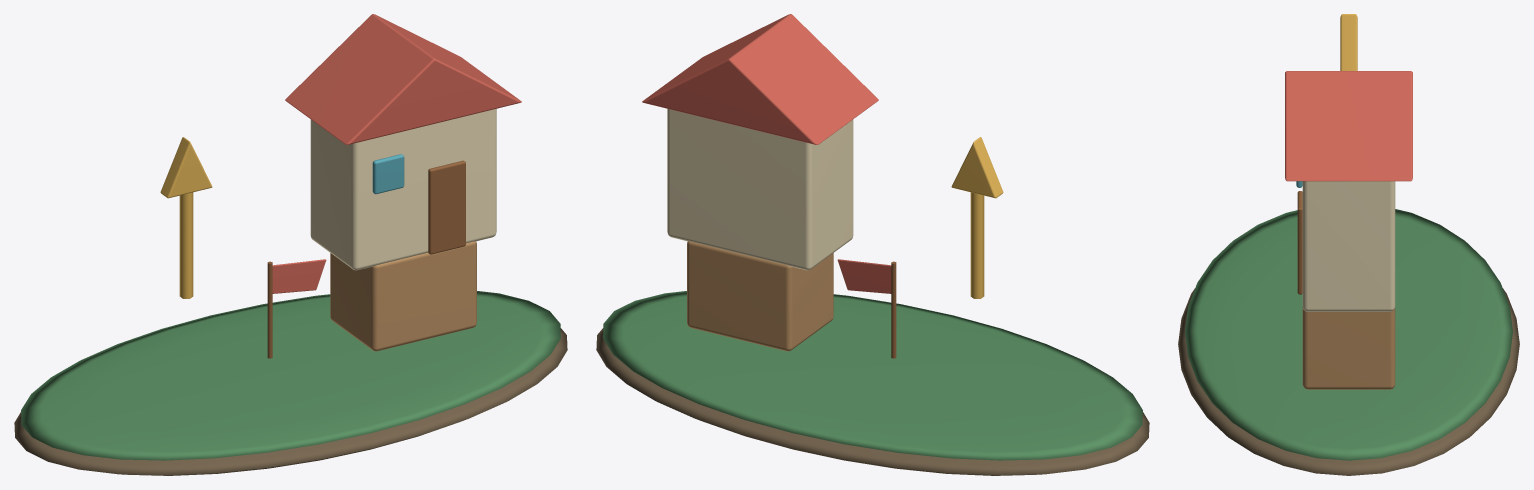
The model's file is complete-first-north-capital.glb.
3 views of the same model, side by side, from view 1: azimuth 30°, elevation 25°; view 2: azimuth 150°, elevation 25°; view 3: azimuth 270°, elevation 25° (orthographic).
Parts seen in each view (by area): view 1: complete-first-north-capital_surface_01, complete-first-north-capital_surface_03, complete-first-north-capital_surface_04, complete-first-north-capital_surface_07, complete-first-north-capital_surface_00, complete-first-north-capital_surface_05, complete-first-north-capital_surface_02, complete-first-north-capital_surface_06; view 2: complete-first-north-capital_surface_01, complete-first-north-capital_surface_03, complete-first-north-capital_surface_04, complete-first-north-capital_surface_07, complete-first-north-capital_surface_00, complete-first-north-capital_surface_02, complete-first-north-capital_surface_05; view 3: complete-first-north-capital_surface_01, complete-first-north-capital_surface_04, complete-first-north-capital_surface_03, complete-first-north-capital_surface_07, complete-first-north-capital_surface_00, complete-first-north-capital_surface_02, complete-first-north-capital_surface_05.
Boxes of the visible parts, x1,y1,x2,y2 form: complete-first-north-capital_surface_01: [21, 291, 560, 460]; complete-first-north-capital_surface_03: [310, 109, 496, 270]; complete-first-north-capital_surface_04: [272, 14, 521, 293]; complete-first-north-capital_surface_07: [330, 241, 476, 351]; complete-first-north-capital_surface_00: [14, 328, 567, 475]; complete-first-north-capital_surface_05: [267, 160, 465, 358]; complete-first-north-capital_surface_02: [160, 137, 212, 298]; complete-first-north-capital_surface_06: [372, 154, 404, 194]; complete-first-north-capital_surface_01: [603, 291, 1142, 460]; complete-first-north-capital_surface_03: [667, 109, 853, 270]; complete-first-north-capital_surface_04: [642, 14, 891, 293]; complete-first-north-capital_surface_07: [687, 241, 833, 351]; complete-first-north-capital_surface_00: [596, 328, 1149, 475]; complete-first-north-capital_surface_02: [951, 137, 1003, 298]; complete-first-north-capital_surface_05: [891, 261, 896, 358]; complete-first-north-capital_surface_01: [1185, 209, 1512, 460]; complete-first-north-capital_surface_04: [1285, 71, 1412, 181]; complete-first-north-capital_surface_03: [1302, 181, 1395, 311]; complete-first-north-capital_surface_07: [1302, 307, 1395, 389]; complete-first-north-capital_surface_00: [1178, 288, 1519, 475]; complete-first-north-capital_surface_02: [1340, 14, 1357, 70]; complete-first-north-capital_surface_05: [1297, 191, 1302, 294].
Size of the model in its own units: 4.56 by 2.78 by 2.5.
